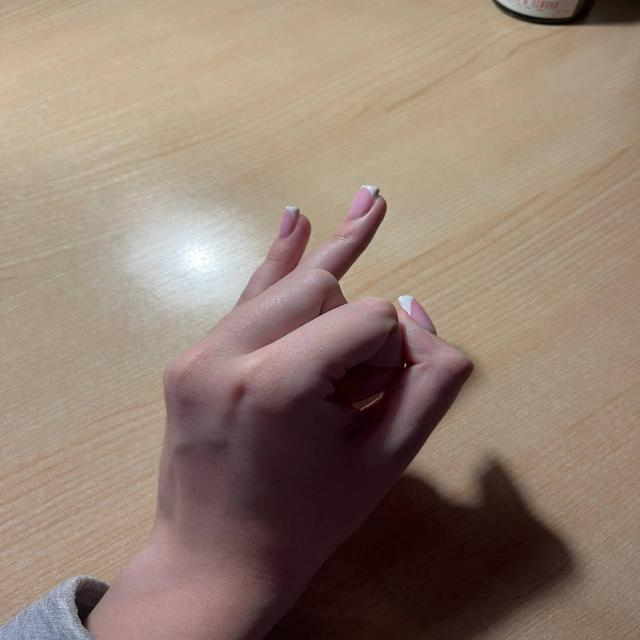i-: (184, 176, 509, 512)
